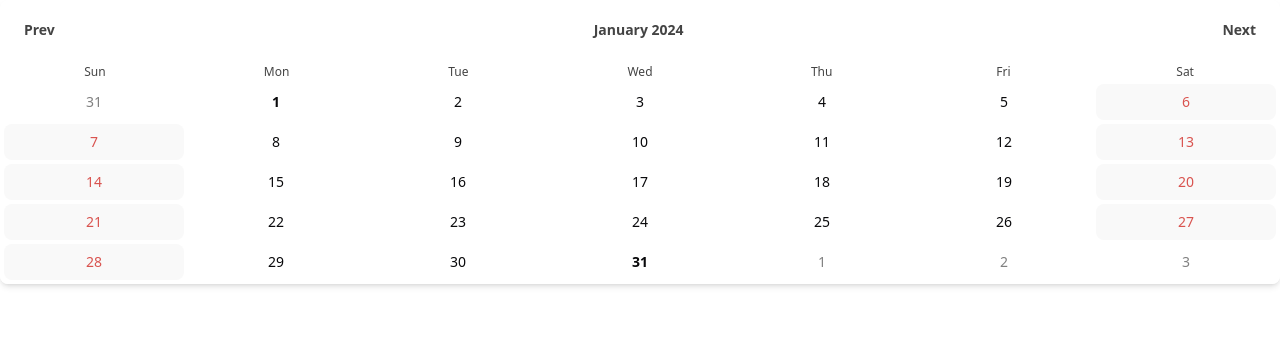
Test: Button – navigation › multiple Next clicks compound (e.g. +3 months)
Click the button with test id "next": click(1239, 30) [1214,16,1264,44]
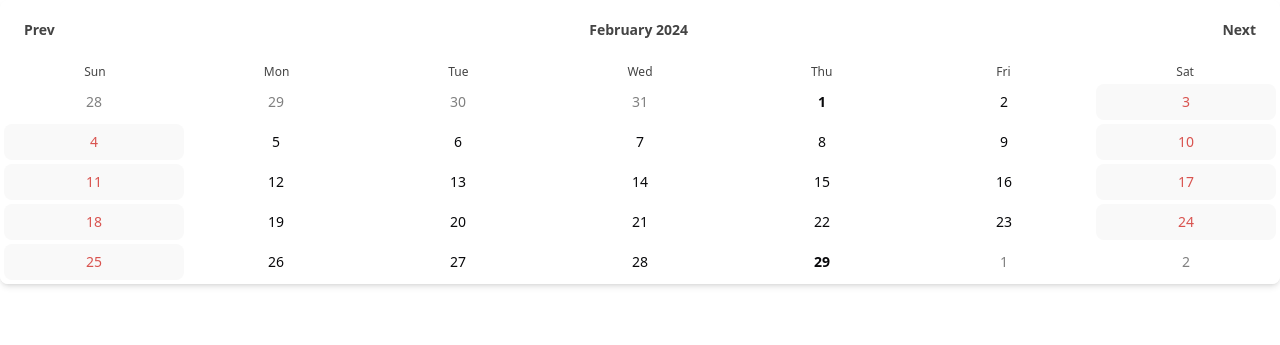
Click the button with test id "next": click(1239, 30) [1214,16,1264,44]
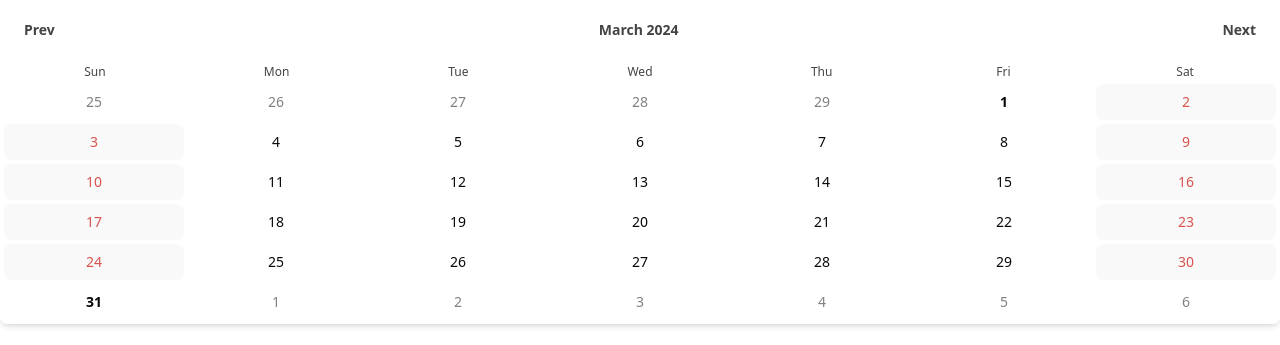
Click the button with test id "next": click(1239, 30) [1214,16,1264,44]
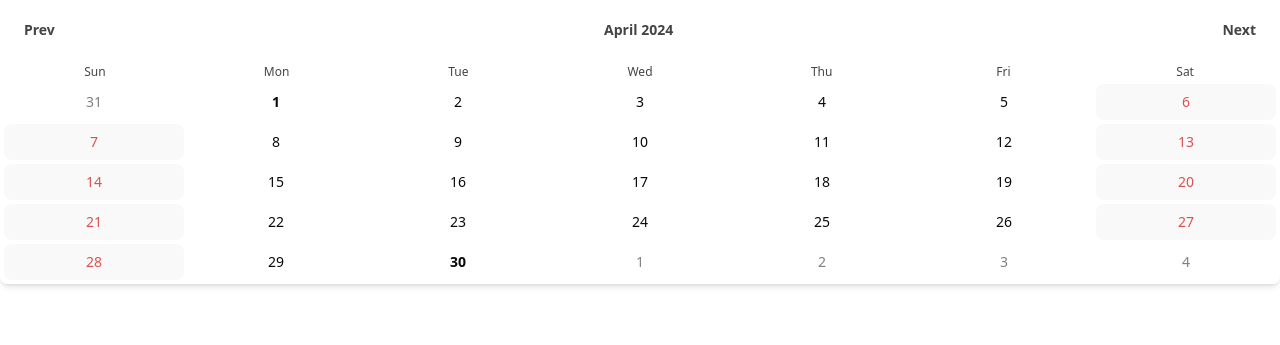
Now the text "April 2024" is shown, box [604,20,673,40]
